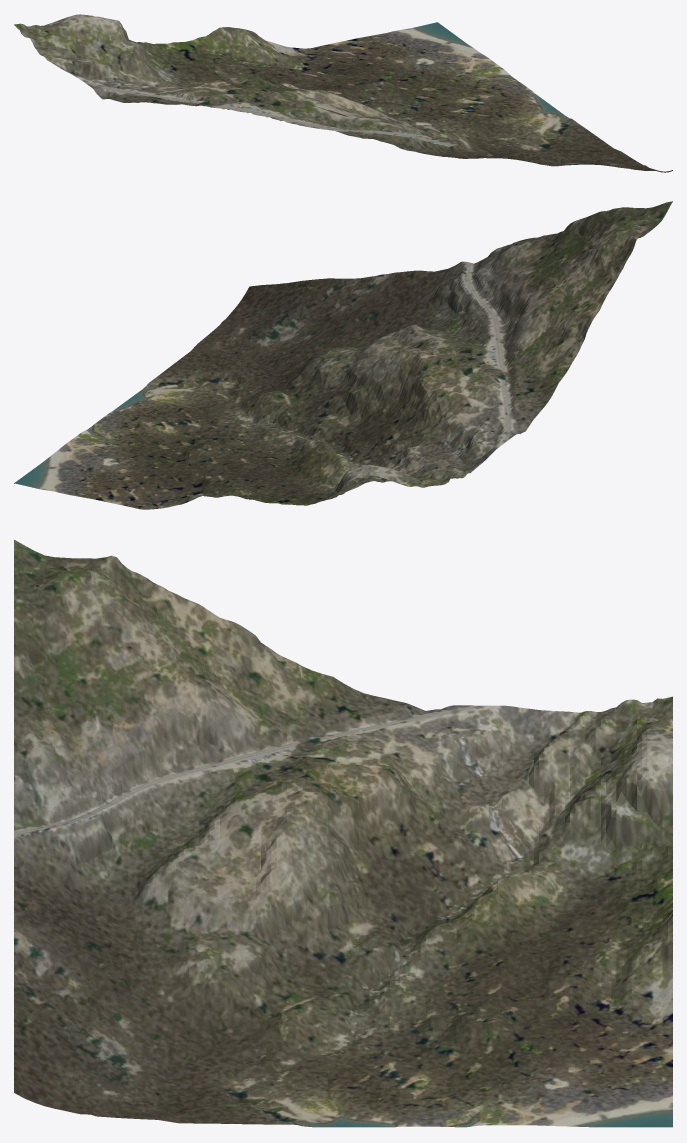
The picture shows the model from 3 angles, top to bottom: view 1: azimuth 30°, elevation 25°; view 2: azimuth 150°, elevation 25°; view 3: azimuth 270°, elevation 25°; orthographic projection. The views are drawn at different scales.
Bounding box in the file's own units: 500 × 241 × 481.
Materials: 1 (1 with a texture image).
